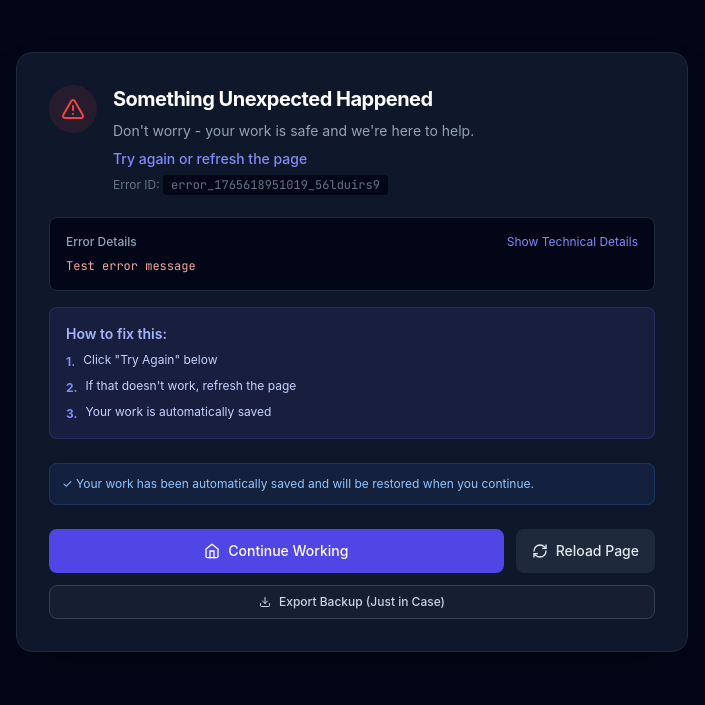
Test: Error Boundary Unit Tests › Fallback UI Rendering › should toggle technical details
Expected: the text "stack trace" is not shown
Click the button "Show Technical Details" at (572, 242), box [507,234,638,250]
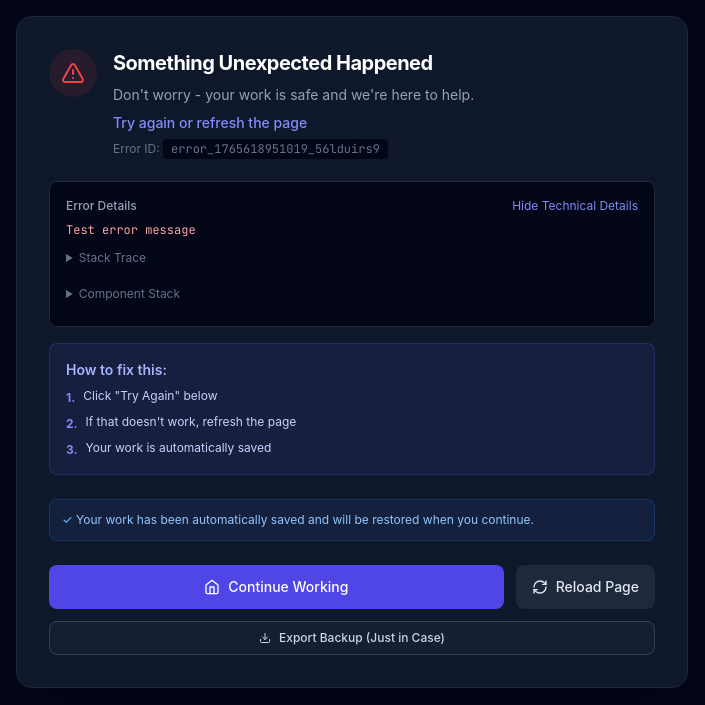
Now the heading "Stack Trace" is shown, box [79,250,146,265]
Now the button "Hide Technical Details" is shown, box [512,198,638,214]
